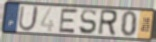0: (118, 10, 139, 38)
4: (39, 7, 56, 33)
E: (57, 8, 80, 35)
R: (97, 9, 119, 37)
S: (78, 8, 97, 36)
U: (17, 5, 40, 33)
